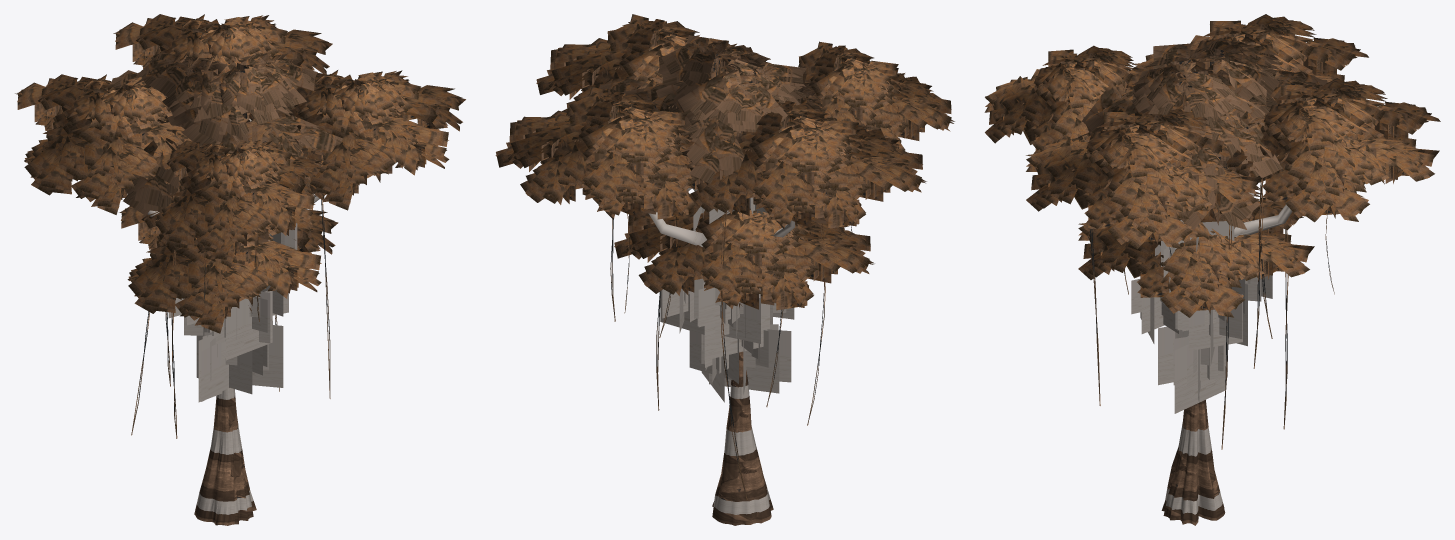
File: JungleTree.fbx
The picture shows the model from 3 angles, left to right: view 1: azimuth 30°, elevation 25°; view 2: azimuth 150°, elevation 25°; view 3: azimuth 270°, elevation 25°; orthographic projection. The views are drawn at different scales.
Visible parts, largest first — view 1: Object_44; view 2: Object_44; view 3: Object_44.
Part boxes in pixels (x1,y1,x2,y2): Object_44: (15,14,465,525); Object_44: (495,14,954,525); Object_44: (984,14,1440,525).
Bounding box in the file's own units: 1705 × 1816 × 1632.
